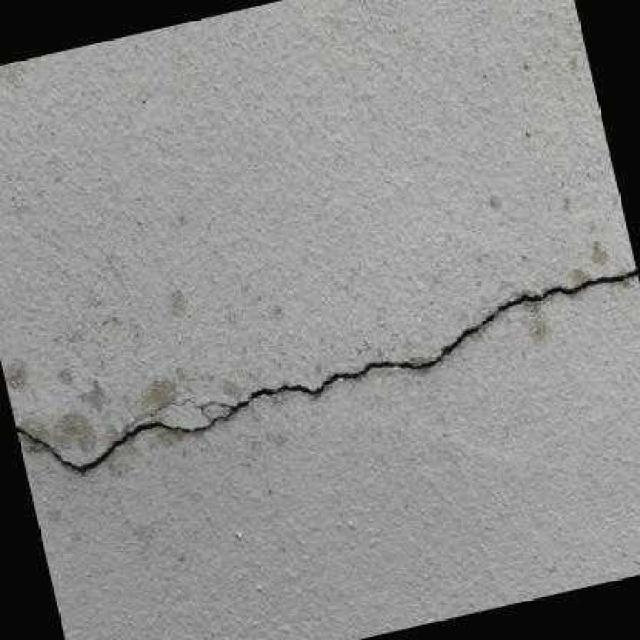D00: (16, 269, 638, 473)
